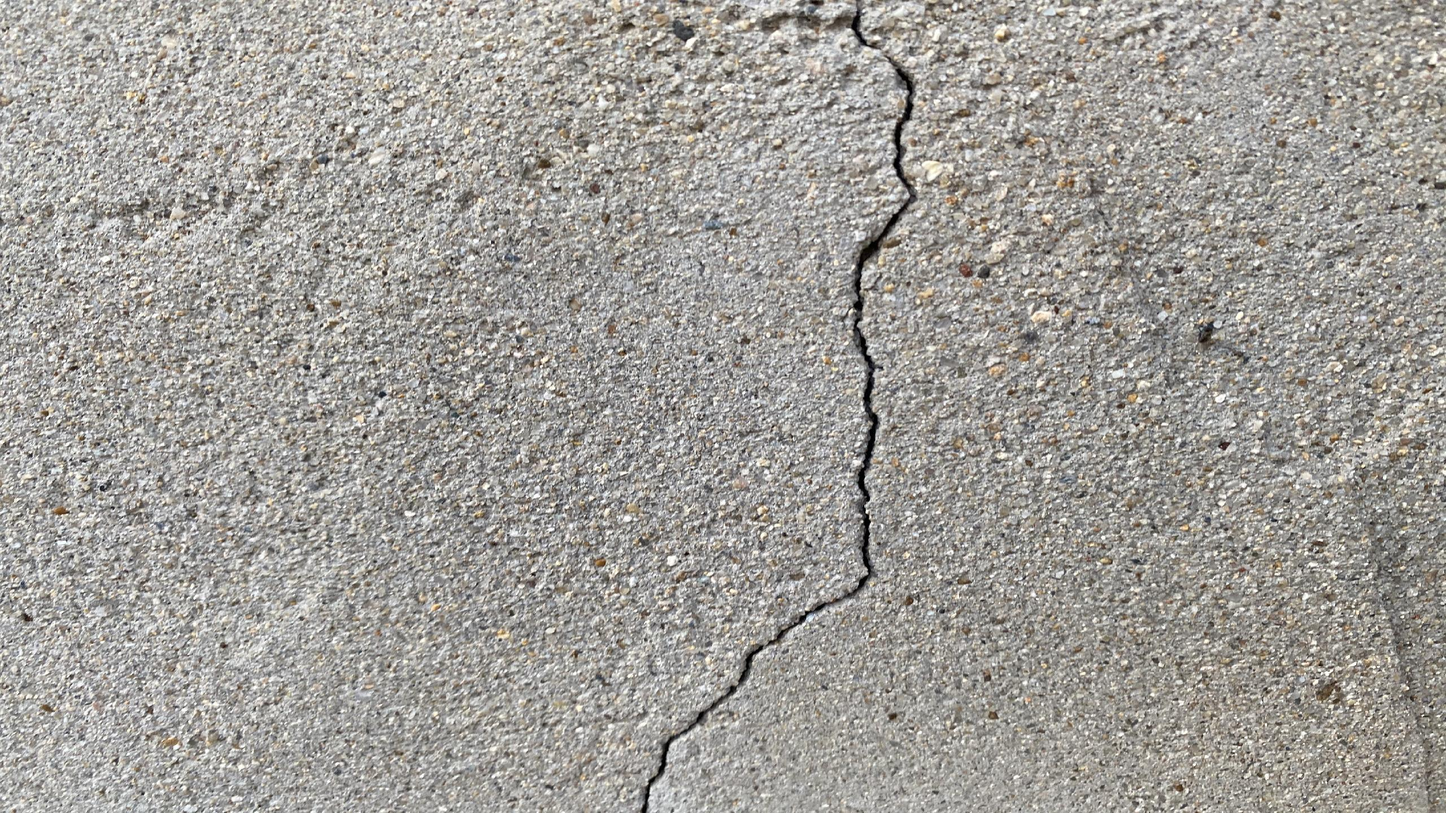crack: (620, 5, 927, 801)
